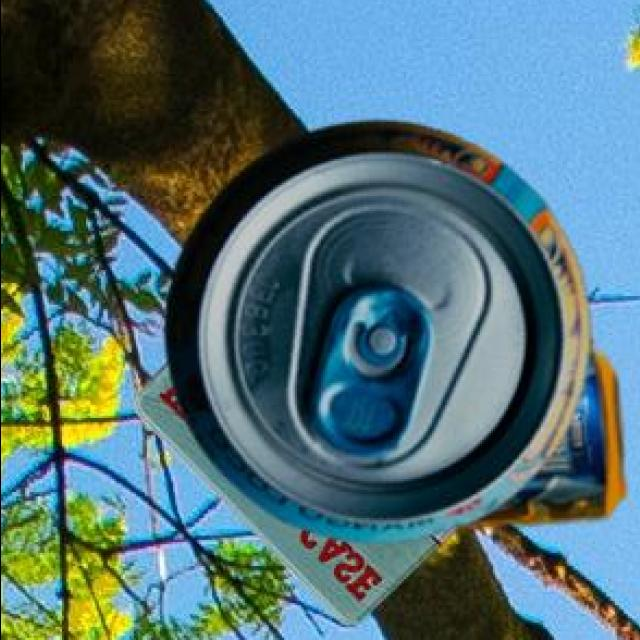logam: (169, 125, 593, 545), (136, 367, 460, 628), (469, 349, 626, 528)
